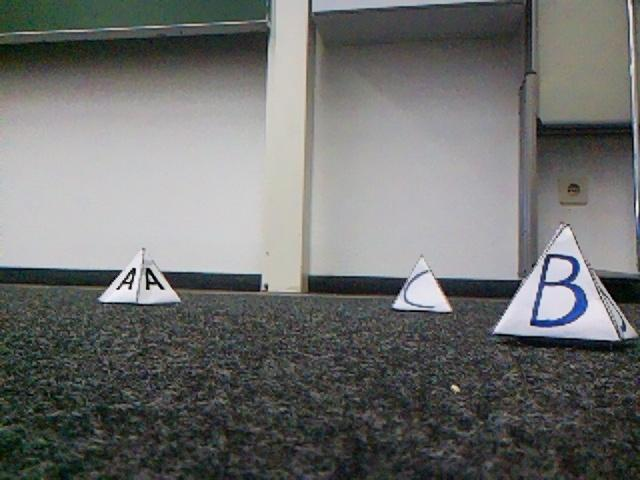A: (103, 247, 182, 307)
B: (495, 224, 639, 351)
C: (393, 255, 453, 310)
